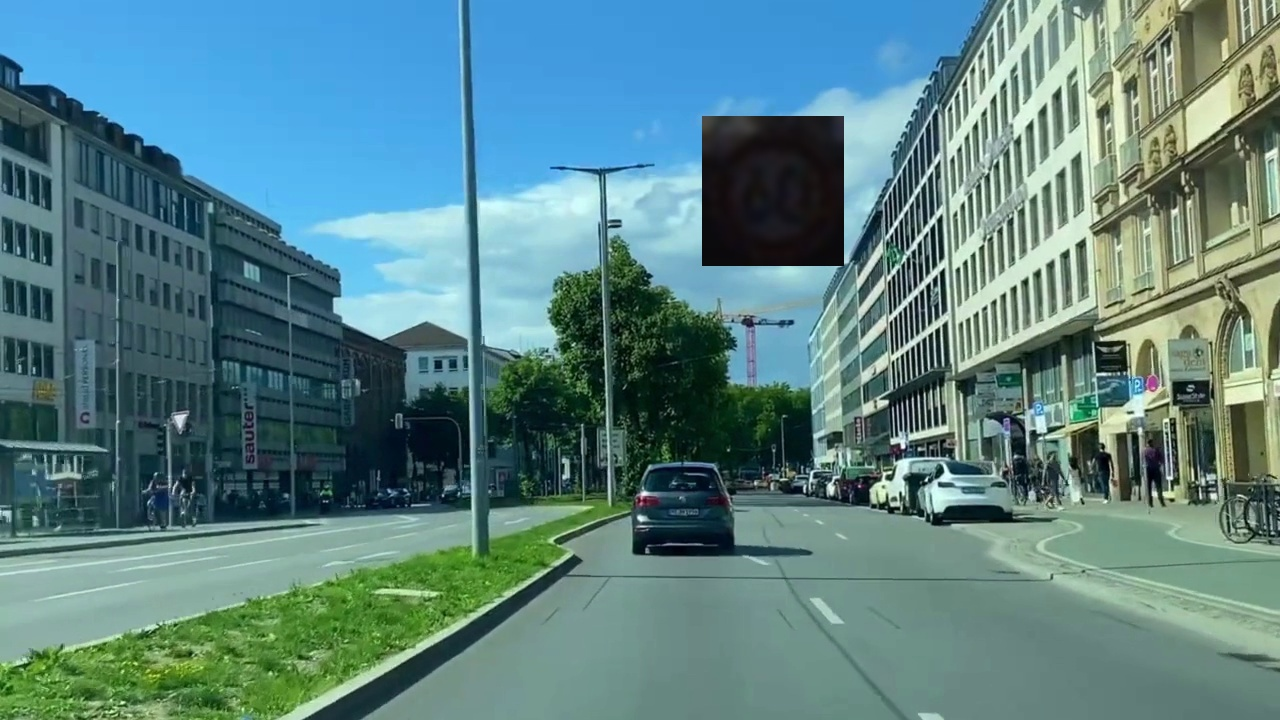Speed 60: (702, 116, 844, 266)
